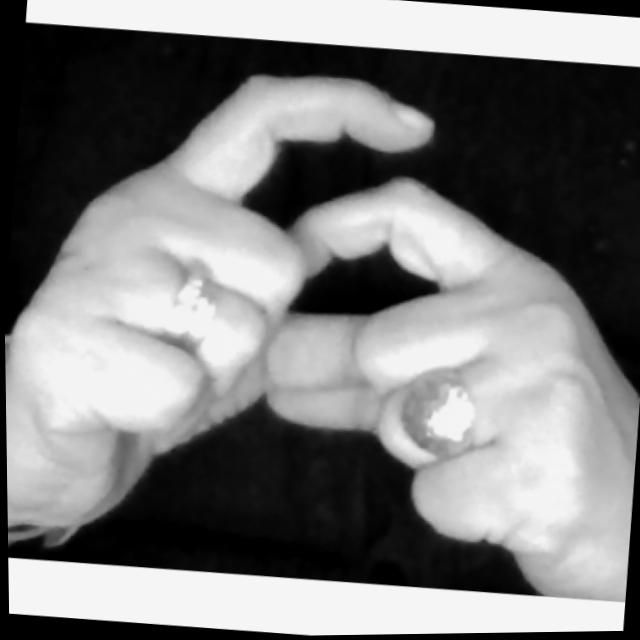G-: (1, 41, 640, 614)
